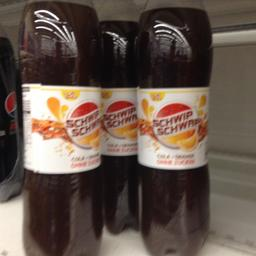soda: (16, 0, 99, 255), (132, 1, 214, 255)
